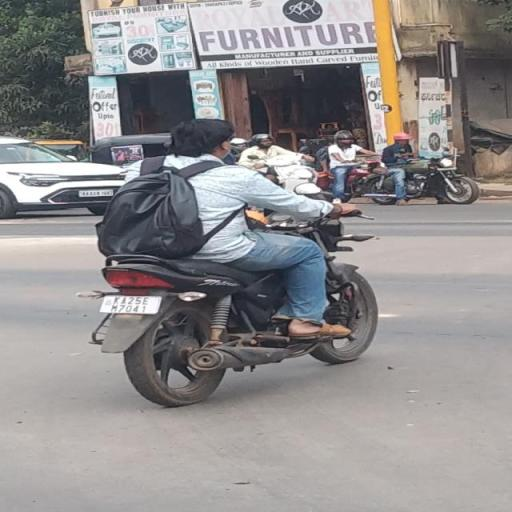bike: (73, 114, 401, 398)
numberplate: (102, 292, 159, 320)
withouthelmet: (172, 118, 234, 156)
